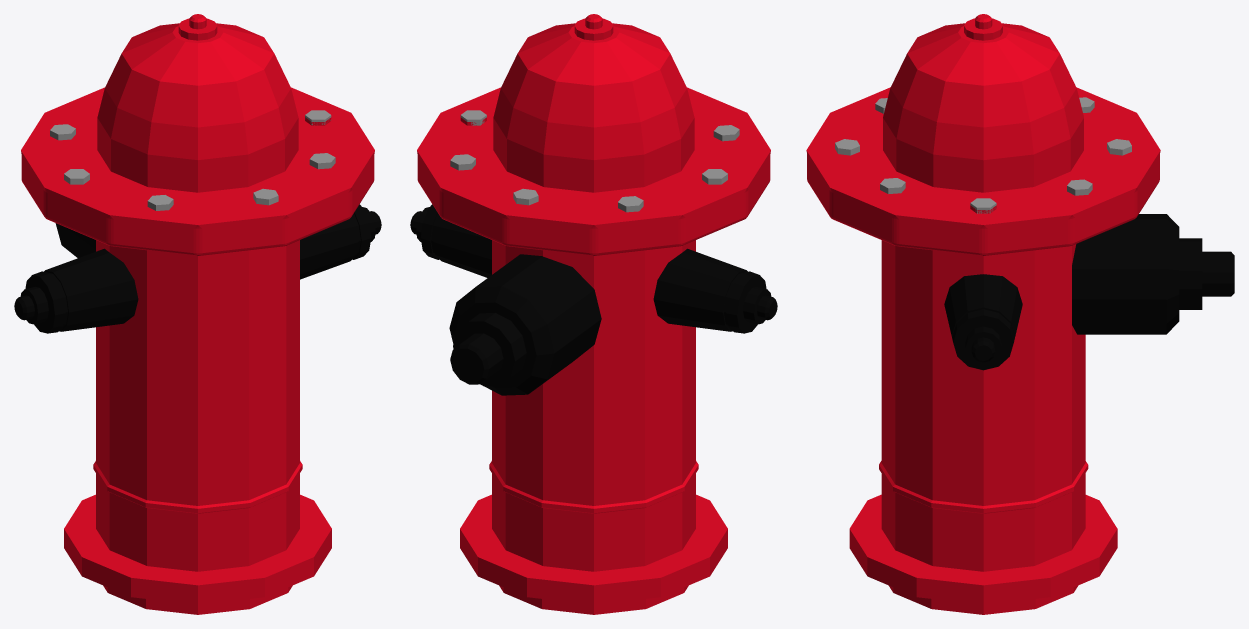
File: FireHydrantV7-Valmis.fbx
The picture shows the model from 3 angles, left to right: view 1: azimuth 30°, elevation 25°; view 2: azimuth 150°, elevation 25°; view 3: azimuth 270°, elevation 25°; orthographic projection.
Visible parts, largest first — view 1: Circle, Circle.001, Circle.003, Circle.002; view 2: Circle, Circle.002, Circle.001, Circle.003; view 3: Circle, Circle.002, Circle.001, Circle.003.
Part boxes in pixels (x1,y1,x2,y2): Circle: (21,14,374,614); Circle.001: (14,204,381,333); Circle.003: (50,110,335,210); Circle.002: (55,223,95,257); Circle: (417,14,770,614); Circle.002: (449,254,601,395); Circle.001: (410,204,777,333); Circle.003: (450,110,739,212); Circle: (806,14,1160,614); Circle.002: (1072,214,1234,334); Circle.001: (944,274,1022,370); Circle.003: (835,97,1131,213).
Size of the model in its own units: 397 by 587 by 411.
